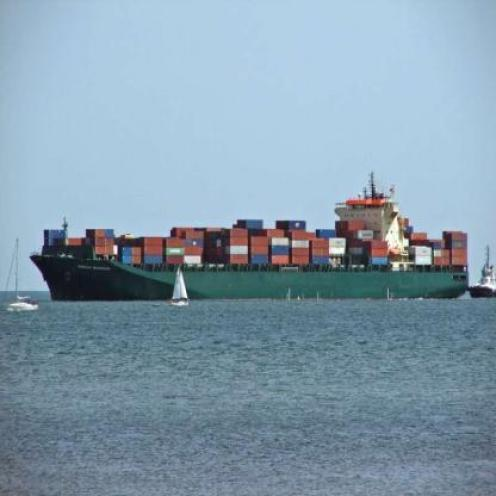Ship: (20, 216, 477, 305)
